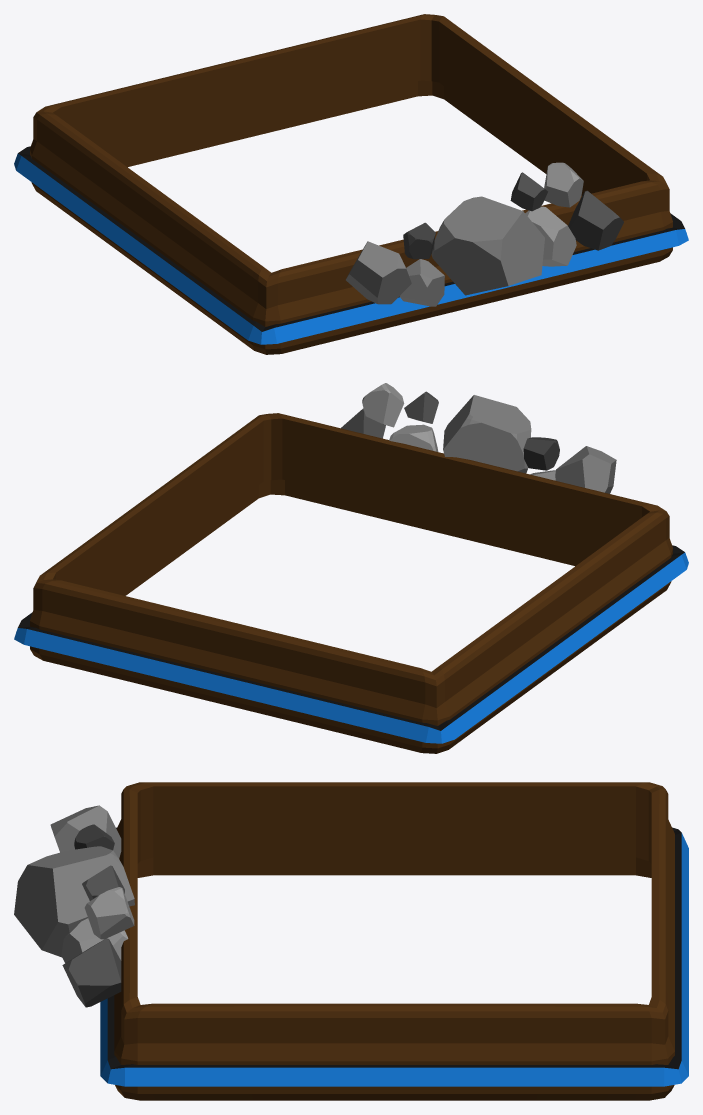
File: CouronneRoche.fbx
3 renders of one model, top to bottom at view 1: azimuth 30°, elevation 25°; view 2: azimuth 150°, elevation 25°; view 3: azimuth 270°, elevation 25°, orthographic. The views are drawn at different scales.
Visible parts, largest first — view 1: CouronnePierre; view 2: CouronnePierre; view 3: CouronnePierre.
Part boxes in pixels (bbox=[...]): CouronnePierre: bbox=[14, 14, 688, 354]; CouronnePierre: bbox=[14, 383, 688, 753]; CouronnePierre: bbox=[14, 782, 688, 1100].
Size of the model in its own units: 217 by 60.79 by 249.
